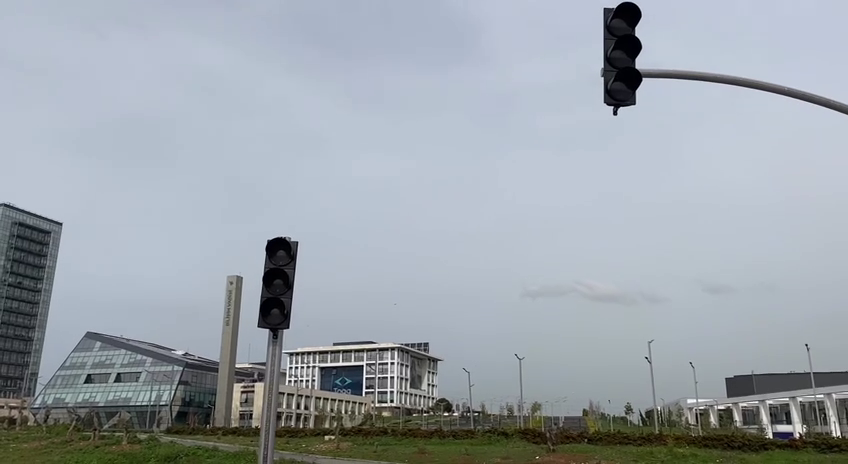trafficLight: (597, 3, 642, 116), (252, 234, 302, 334)
